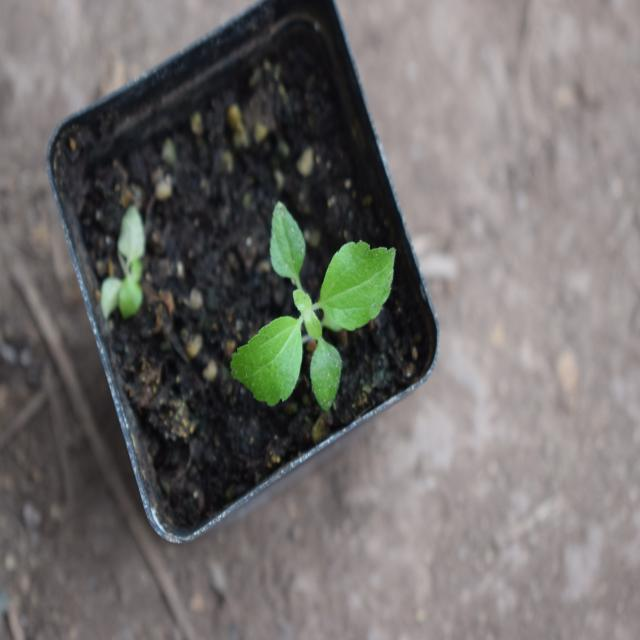billygoat_weed: (227, 221, 388, 427)
